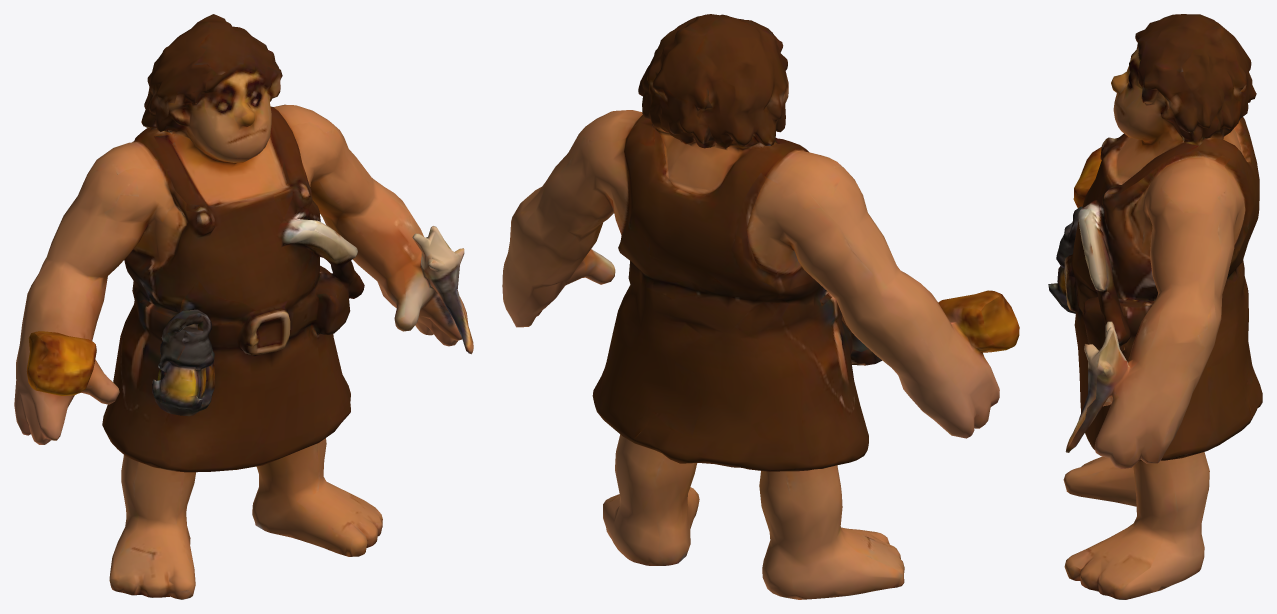
Rendered from char_amber_miner.glb.
3 views of the same model, side by side, from view 1: azimuth 30°, elevation 25°; view 2: azimuth 150°, elevation 25°; view 3: azimuth 270°, elevation 25° (orthographic). The views are drawn at different scales.
Visible parts, largest first — view 1: geometry_0; view 2: geometry_0; view 3: geometry_0.
Boxes of the visible parts, bbox=[...] form: geometry_0: bbox=[14, 14, 473, 599]; geometry_0: bbox=[502, 14, 1019, 599]; geometry_0: bbox=[1048, 14, 1262, 599].
Size of the model in its own units: 1.7 by 1.87 by 0.7013.
Materials: 1 (1 with a texture image).
